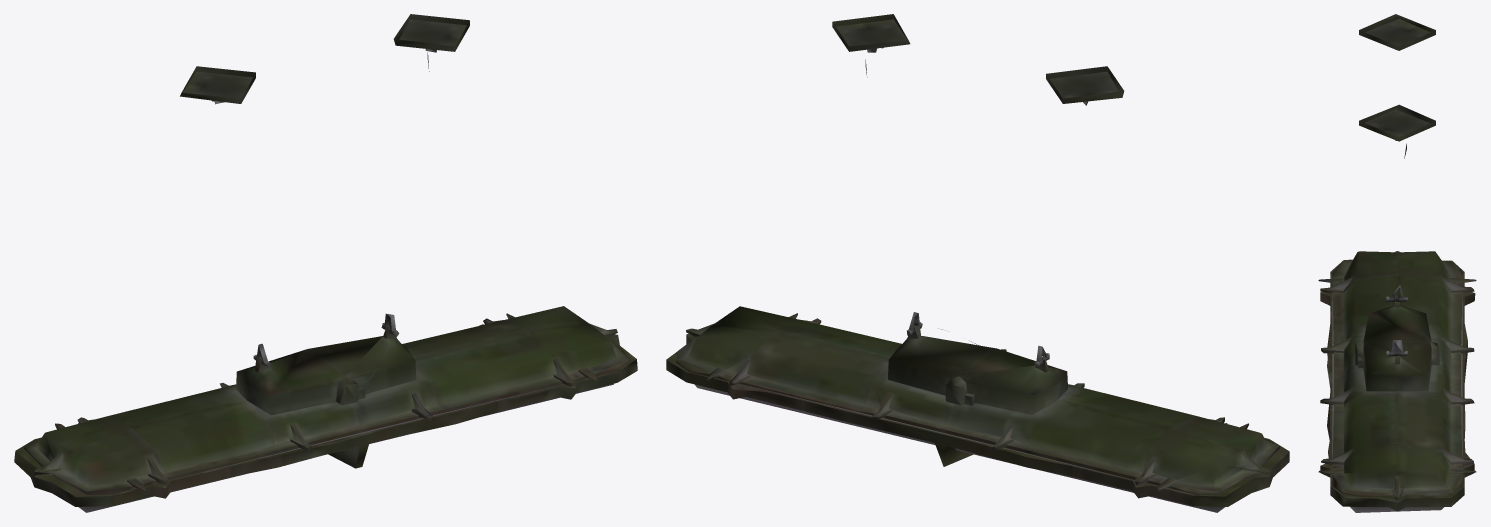
Rendered from lampCaged_lo.glb.
The picture shows the model from 3 angles, left to right: view 1: azimuth 30°, elevation 25°; view 2: azimuth 150°, elevation 25°; view 3: azimuth 270°, elevation 25°; orthographic projection. The views are drawn at different scales.
Visible parts, largest first — view 1: caged_hanging_light; view 2: caged_hanging_light; view 3: caged_hanging_light.
Boxes of the visible parts, x1,y1,x2,y2 form: caged_hanging_light: (14,14,637,512); caged_hanging_light: (666,14,1289,512); caged_hanging_light: (1318,14,1476,512).
Bounding box in the file's own units: 1.16 × 0.7501 × 0.3149.
1 material, 1 textured.
